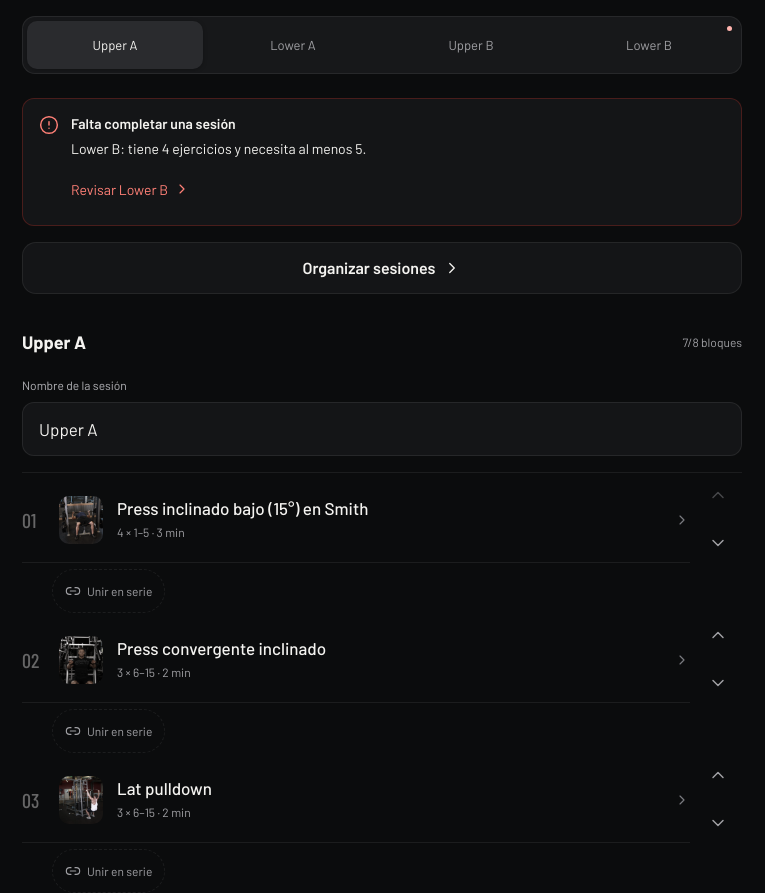
Test case: señala Lower B aunque se vea Upper A válida, lleva a revisarla y conserva el programa
Expected: the heading "Upper A" is shown, left=22, top=331, right=86, bottom=353
Expected: the message shows "Lower B: tiene 4 ejercicios y necesita al menos 5.", left=71, top=140, right=366, bottom=157
Click the button "Revisar Lower B".
click(131, 189)  # box left=71, top=167, right=190, bottom=211
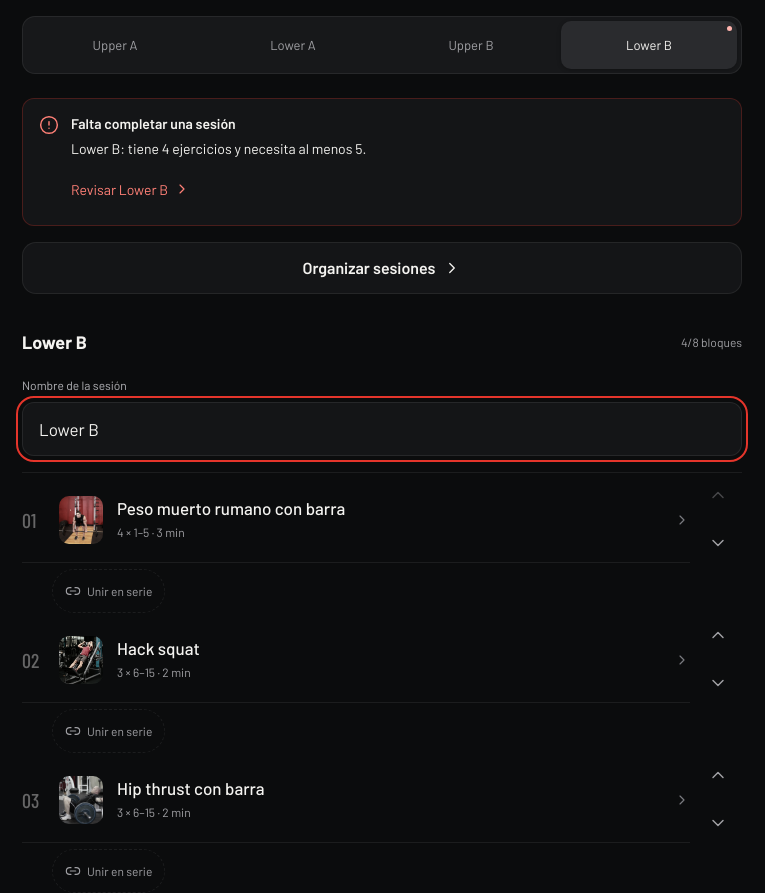
Expected: the heading "Lower B" is shown, left=22, top=331, right=87, bottom=353
